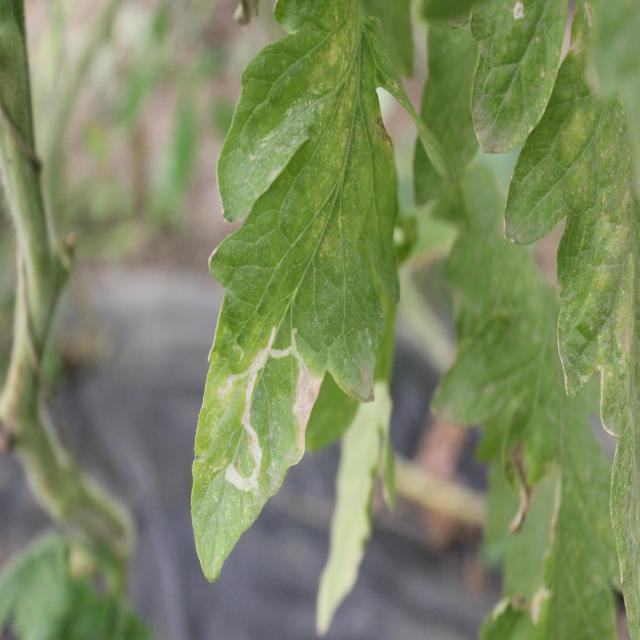Tuta absoluta: (220, 323, 315, 496)
